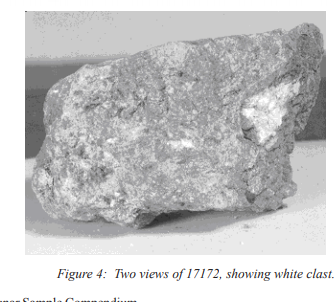Breccia: (37, 17, 322, 239)
